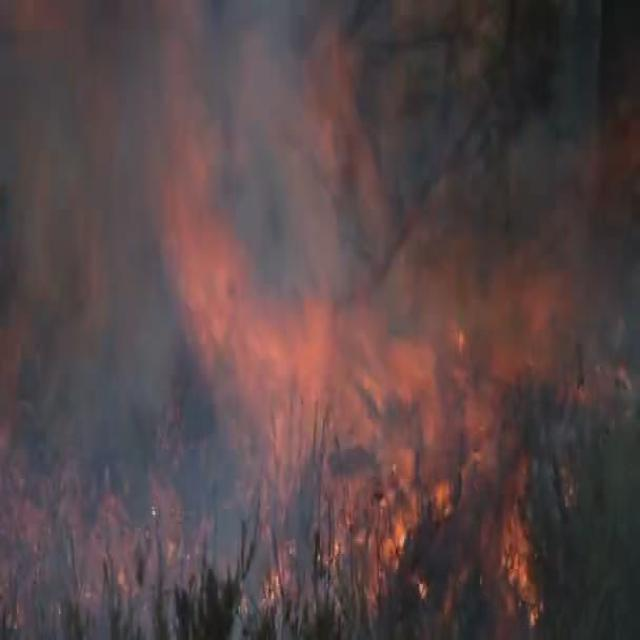Smoke: (0, 0, 183, 485), (196, 0, 394, 348)
